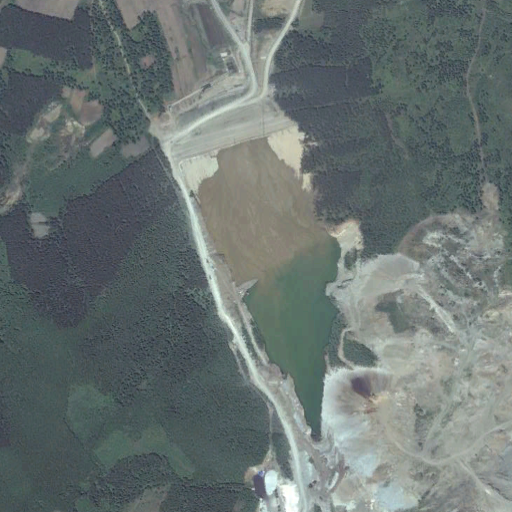tp: (166, 76, 343, 446)
